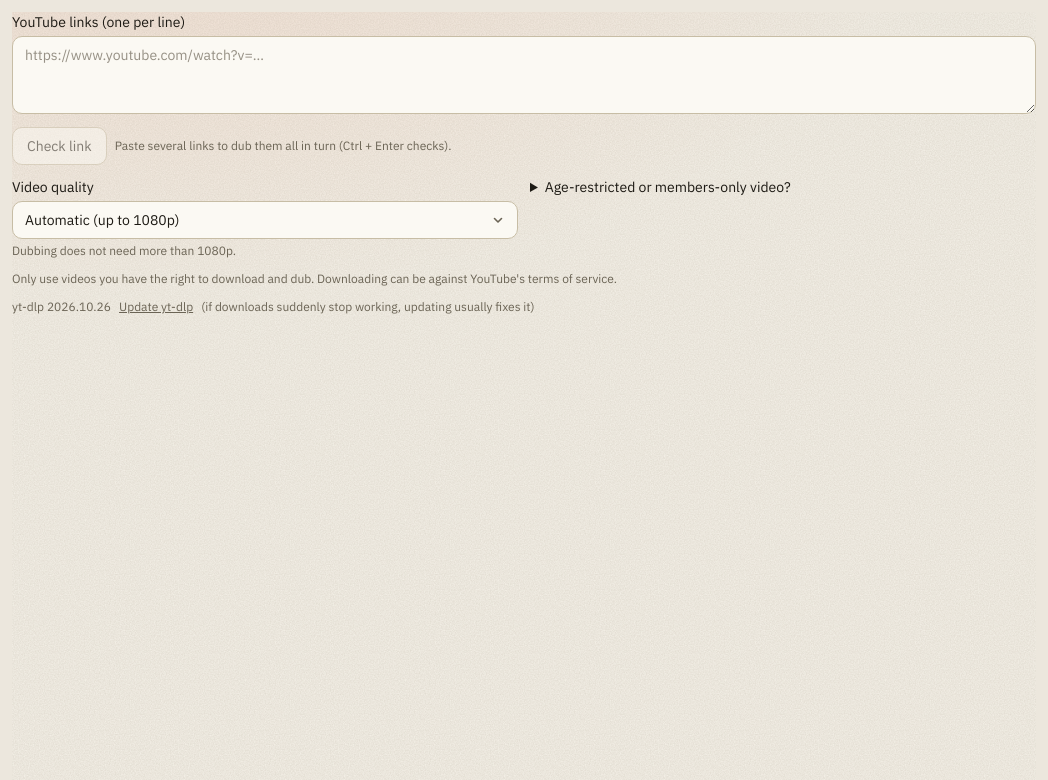
Scenario: YoutubeSource › forgets the choice when the link changes, and re-reports it when only the quality changes
This screenshot has width=1048, height=780.
Type "https://youtu.be/abc" into the text box labelled "YouTube links (one per line)". click: x=524, y=75
box: [12, 36, 1036, 114]
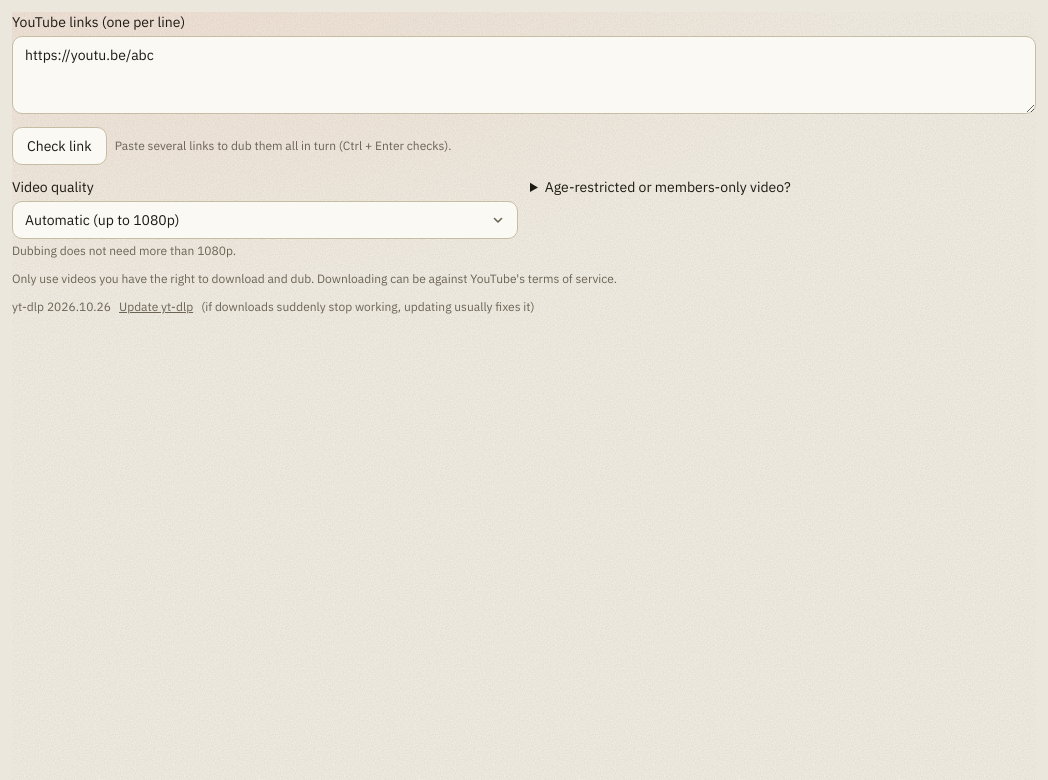
Click the button "Check link". click: x=59, y=146
box: [12, 127, 107, 165]
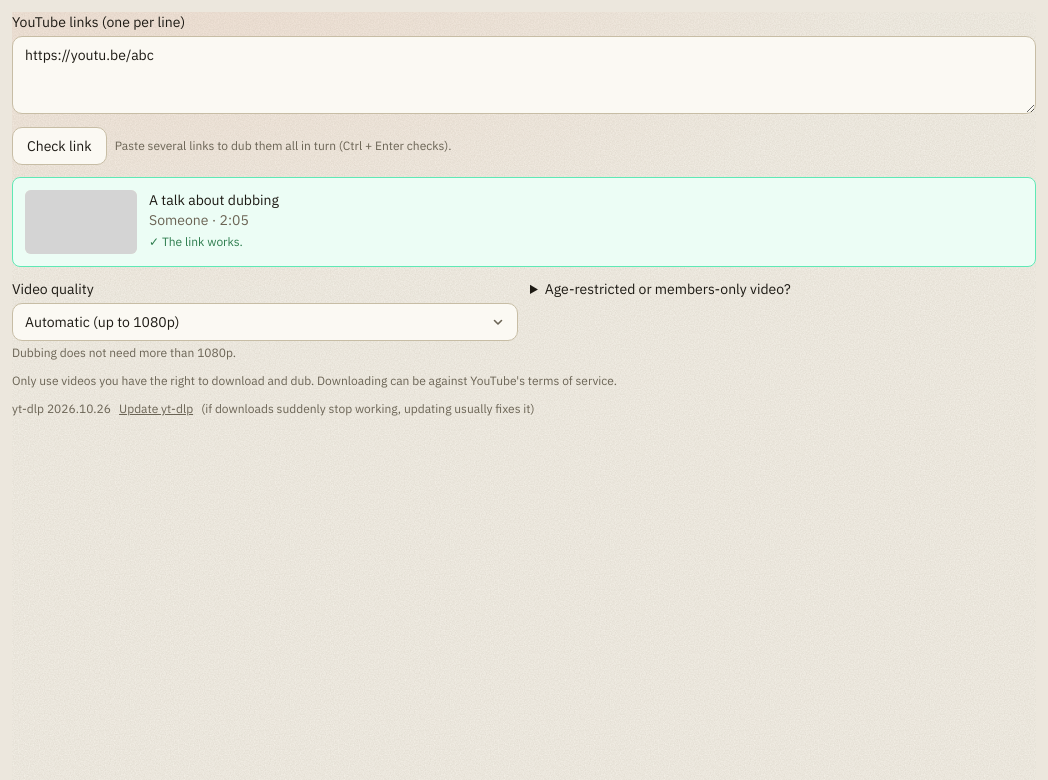
Now the list item with test id "youtube-card" is shown, box [12, 177, 1036, 267]
Select "720p" in the dropdown labelled "Video quality Dubbing does not need more than 1080p.". click: x=265, y=322
box: [12, 303, 518, 341]
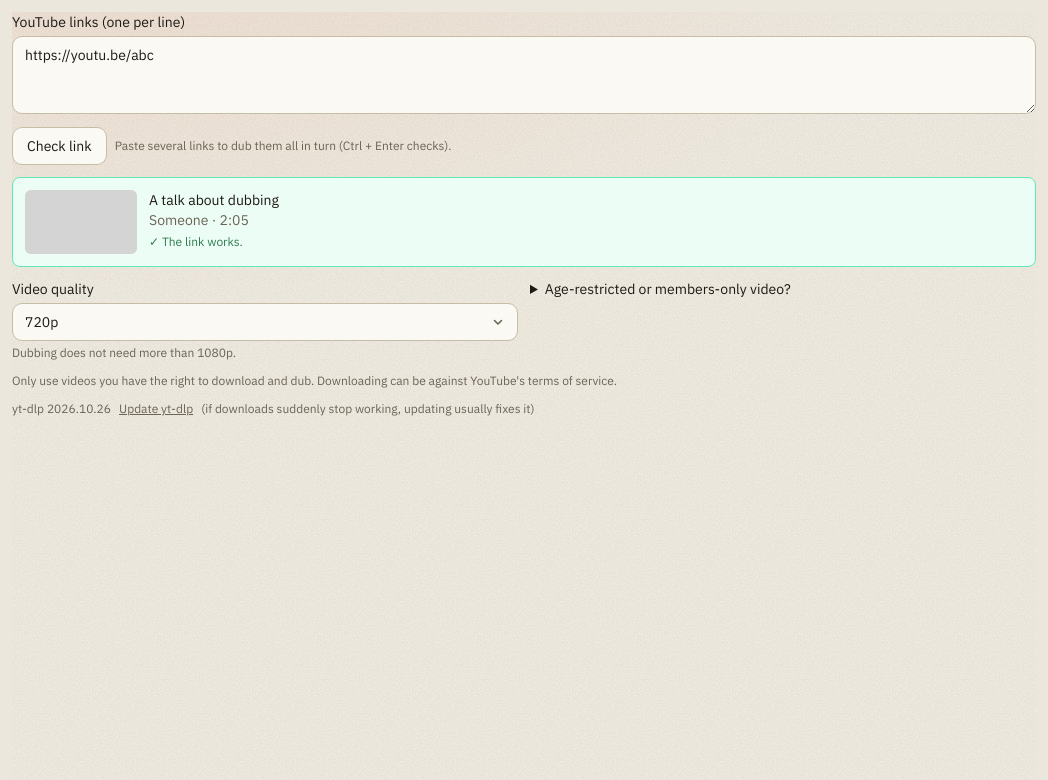
Replace the text in the text box labelled "YouTube links (one per line)" with "https://youtu.be/other". click: x=524, y=75
box: [12, 36, 1036, 114]
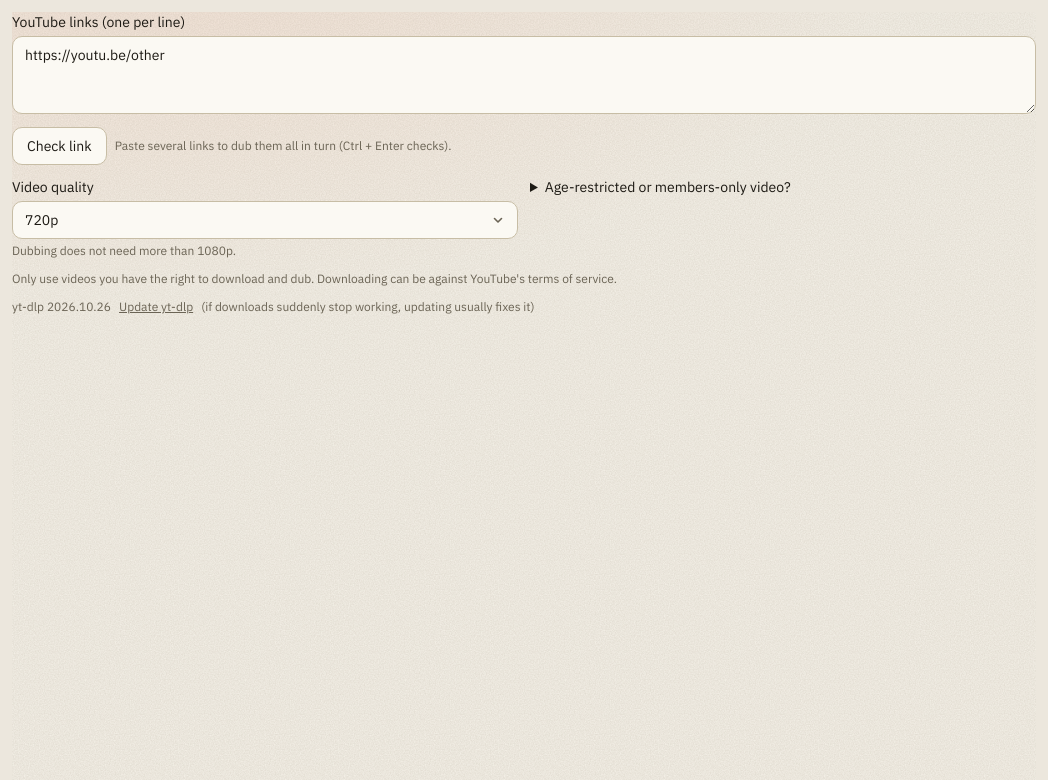
Now the list item with test id "youtube-card" is gone
